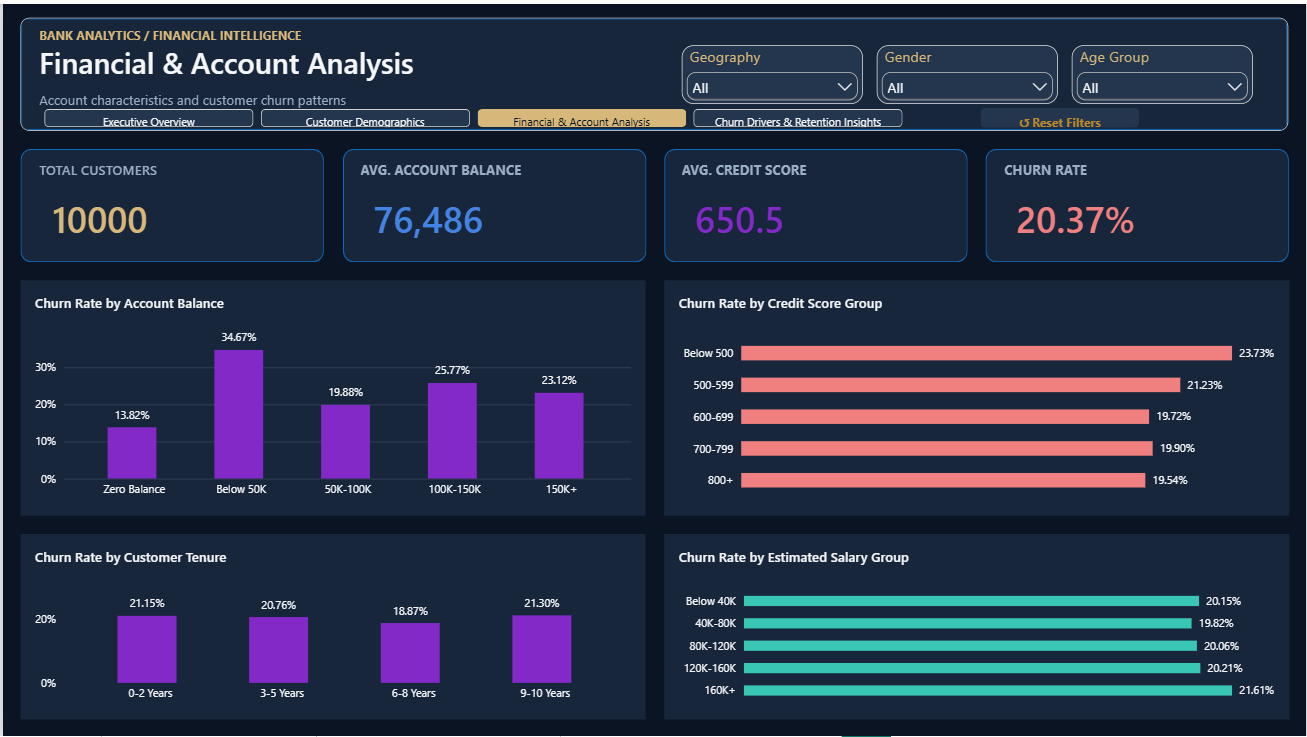

This screenshot's page, from the dashboard's own definition file:
{"tool":"powerbi","page":{"name":"Financial & Account Analysis","canvas":[1440,810],"ordinal":2},"visuals":[{"type":"shape","box":[20,15,1400,125],"z":0},{"type":"textbox","box":[40,43,550,45],"z":1000},{"type":"textbox","box":[40,95,650,30],"z":2000},{"type":"textbox","box":[40,25,650,20],"z":3000},{"type":"shape","box":[20,160,335,125],"z":4000},{"type":"textbox","box":[40,173,240,25],"z":5000},{"type":"cardVisual","fields":{"Data":["_Measures.Total Customers"]},"box":[38,204,280,65],"z":6000},{"type":"shape","box":[375.5,160,335,125],"z":7000},{"type":"textbox","box":[395.5,173,240,25],"z":8000},{"type":"cardVisual","fields":{"Data":["_Measures.Average Account Balance"]},"box":[393.5,204,280,65],"z":9000},{"type":"shape","box":[730,160,335,125],"z":10000},{"type":"textbox","box":[750,173,240,25],"z":11000},{"type":"cardVisual","fields":{"Data":["_Measures.Average Credit Score"]},"box":[748,204,280,65],"z":12000},{"type":"shape","box":[1085,160,335,125],"z":13000},{"type":"textbox","box":[1105,173,240,25],"z":14000},{"type":"cardVisual","fields":{"Data":["_Measures.Churn Rate"]},"box":[1103,204,280,65],"z":15000},{"type":"clusteredColumnChart","title":"Churn Rate by Account Balance","fields":{"Category":["Bank_Customers.Balance Group"],"Y":["_Measures.Churn Rate"]},"box":[20,305,690,260],"z":16000},{"type":"clusteredBarChart","title":"Churn Rate by Credit Score Group","fields":{"Category":["Bank_Customers.Credit Score Group"],"Y":["_Measures.Churn Rate"]},"box":[730,305,690,260],"z":17000},{"type":"clusteredColumnChart","title":"Churn Rate by Customer Tenure","fields":{"Category":["Bank_Customers.Tenure Group"],"Y":["_Measures.Churn Rate"]},"box":[20,585,690,205],"z":18000},{"type":"clusteredBarChart","title":"Churn Rate by Estimated Salary Group","fields":{"Category":["Bank_Customers.Salary Group"],"Y":["_Measures.Churn Rate"]},"box":[730,585,690,205],"z":19000},{"type":"slicer","title":"Geography","fields":{"Values":["Bank_Customers.Geography"]},"box":[750,45,200,65],"z":20000},{"type":"slicer","title":"Geography","fields":{"Values":["Bank_Customers.Gender"]},"box":[965,45,200,65.1],"z":21000},{"type":"slicer","title":"Geography","fields":{"Values":["Bank_Customers.Age Group"]},"box":[1180,45,200,65.1],"z":22000},{"type":"actionButton","box":[1080,115,175,22],"z":23000},{"type":"pageNavigator","title":"Executive","box":[45,116,950,20],"z":23001}]}

Visuals, with their boxes in screenshot pixels (x1, y1, x2, y2), scaled from the page's 1440x810 canvas onto the 1307x737 screenshot:
shape: (18, 14, 1289, 127)
textbox: (36, 39, 536, 80)
textbox: (36, 86, 626, 114)
textbox: (36, 23, 626, 41)
shape: (18, 146, 322, 259)
textbox: (36, 157, 254, 180)
cardVisual - _Measures.Total Customers: (34, 186, 289, 245)
shape: (341, 146, 645, 259)
textbox: (359, 157, 577, 180)
cardVisual - _Measures.Average Account Balance: (357, 186, 611, 245)
shape: (663, 146, 967, 259)
textbox: (681, 157, 899, 180)
cardVisual - _Measures.Average Credit Score: (679, 186, 933, 245)
shape: (985, 146, 1289, 259)
textbox: (1003, 157, 1221, 180)
cardVisual - _Measures.Churn Rate: (1001, 186, 1255, 245)
"Churn Rate by Account Balance" clusteredColumnChart: (18, 278, 644, 514)
"Churn Rate by Credit Score Group" clusteredBarChart: (663, 278, 1289, 514)
"Churn Rate by Customer Tenure" clusteredColumnChart: (18, 532, 644, 719)
"Churn Rate by Estimated Salary Group" clusteredBarChart: (663, 532, 1289, 719)
"Geography" slicer: (681, 41, 862, 100)
"Geography" slicer: (876, 41, 1057, 100)
"Geography" slicer: (1071, 41, 1253, 100)
actionButton: (980, 105, 1139, 125)
"Executive" pageNavigator: (41, 106, 903, 124)
